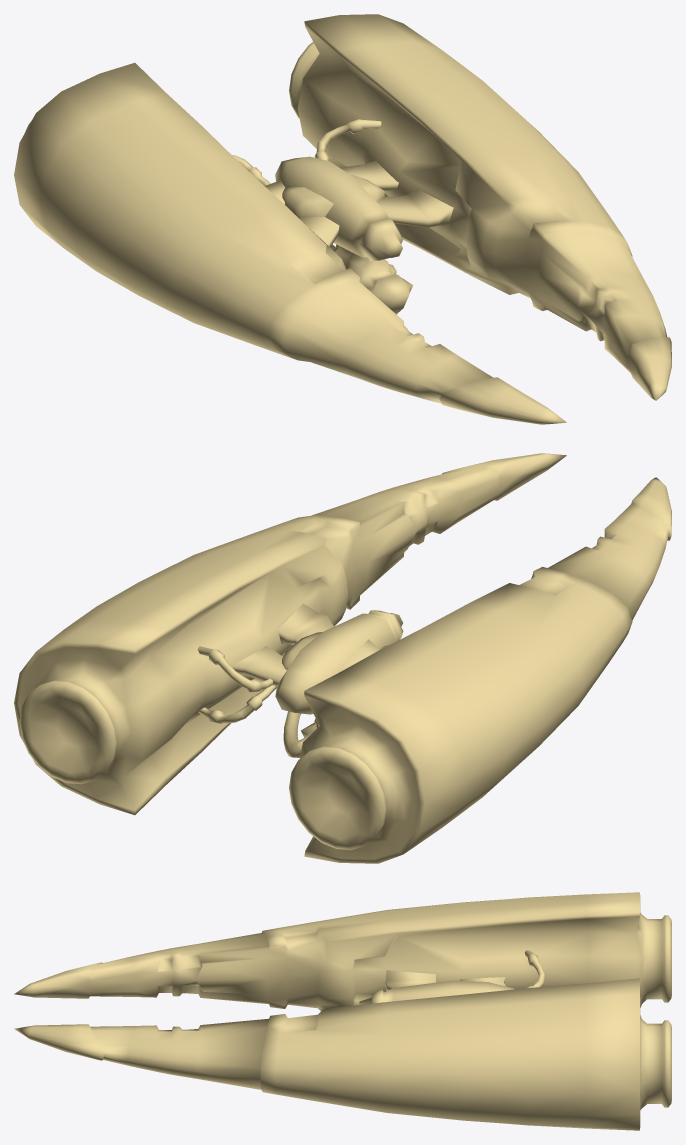
The model's file is executioner.glb.
3 views of the same model, one above another, from view 1: azimuth 30°, elevation 25°; view 2: azimuth 150°, elevation 25°; view 3: azimuth 270°, elevation 25° (orthographic). The views are drawn at different scales.
Visible parts, largest first — view 1: executioner; view 2: executioner; view 3: executioner.
Boxes of the visible parts, x1,y1,x2,y2 form: executioner: [14, 14, 671, 424]; executioner: [14, 453, 671, 863]; executioner: [14, 892, 671, 1130].
Bounding box in the file's own units: 0.6084 × 0.222 × 1.
